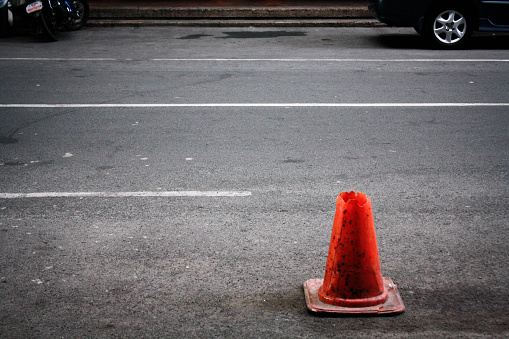trafficcone: (304, 191, 406, 316)
